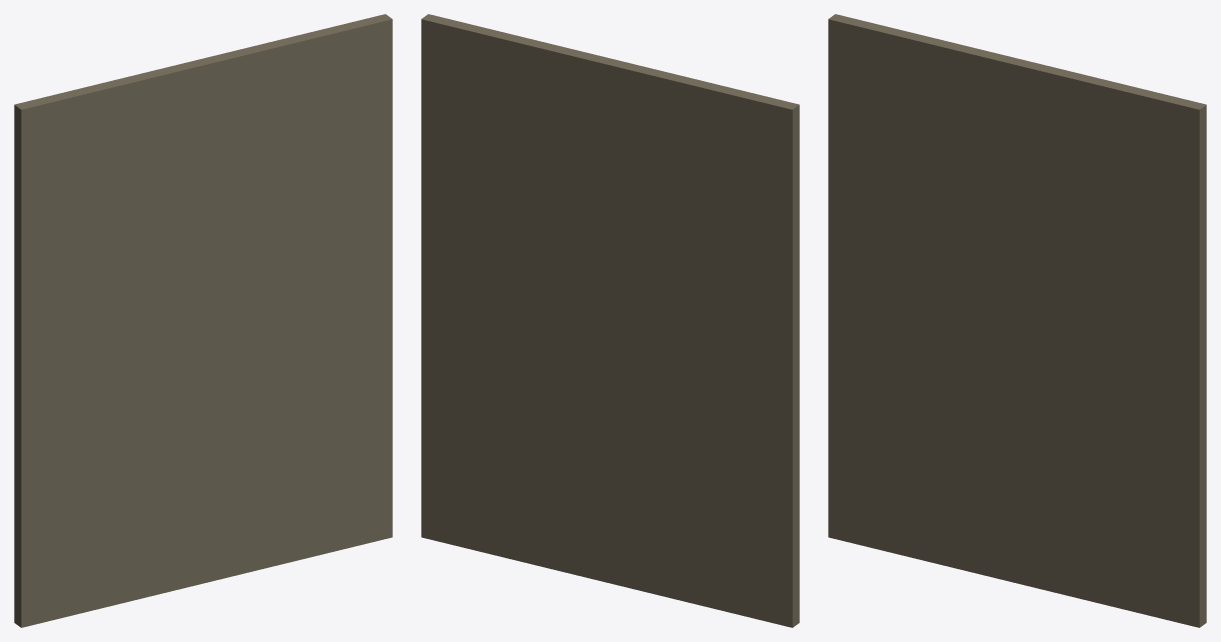
File: SM_wall_lowlevel_01.fbx
3 views of the same model, side by side, from view 1: azimuth 30°, elevation 25°; view 2: azimuth 150°, elevation 25°; view 3: azimuth 330°, elevation 25° (orthographic).
Parts seen in each view (by area): view 1: wall_lowlevel_01; view 2: wall_lowlevel_01; view 3: wall_lowlevel_01.
Part boxes in pixels (bbox=[...]): wall_lowlevel_01: bbox=[14, 14, 392, 627]; wall_lowlevel_01: bbox=[421, 14, 799, 627]; wall_lowlevel_01: bbox=[828, 14, 1206, 627].
Bounding box in the file's own units: 150 × 200 × 5.
